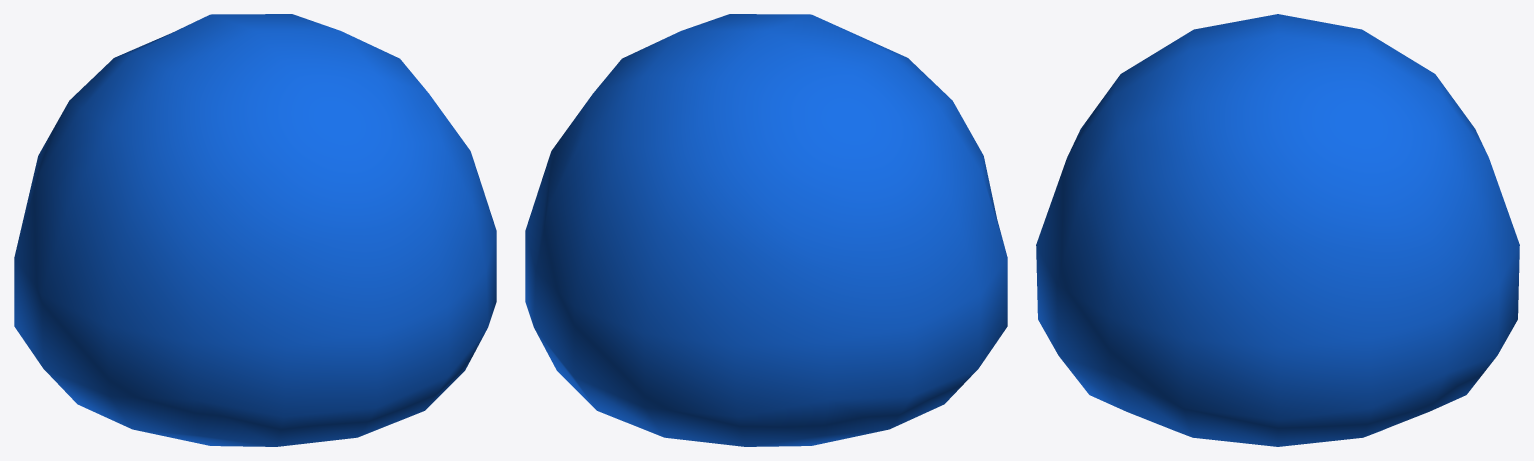
The model's file is sphereJelly.fbx.
3 renders of one model, left to right at view 1: azimuth 30°, elevation 25°; view 2: azimuth 150°, elevation 25°; view 3: azimuth 270°, elevation 25°, orthographic.
Parts seen in each view (by area): view 1: sphereJelly; view 2: sphereJelly; view 3: sphereJelly.
Boxes of the visible parts, box(x1,y1,x2,y2) form: sphereJelly: box(14, 14, 496, 446); sphereJelly: box(525, 14, 1007, 446); sphereJelly: box(1036, 14, 1519, 446).
Bounding box in the file's own units: 76.16 × 76.82 × 63.09.
